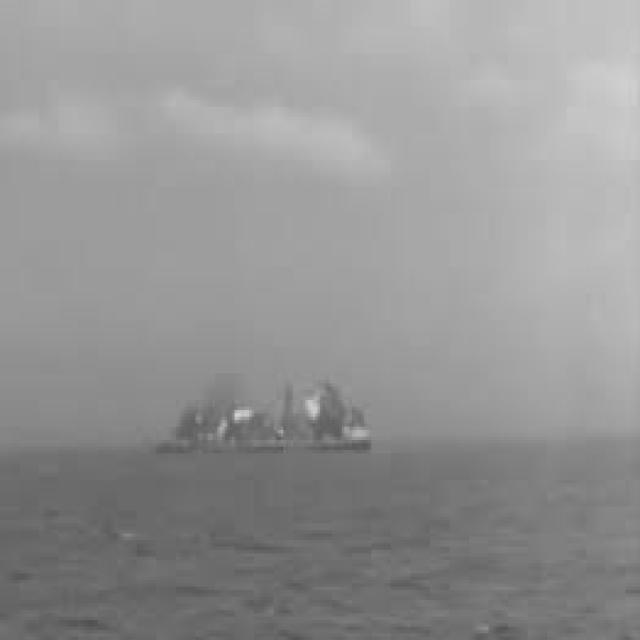fishing boat: (149, 365, 384, 462)
